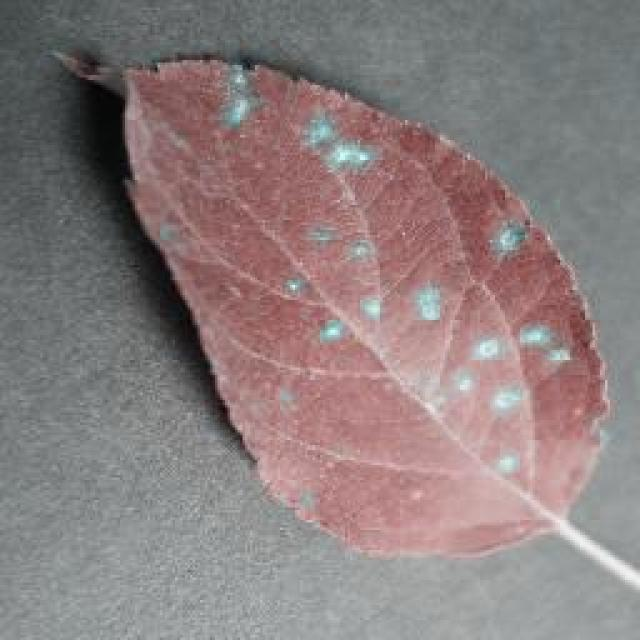apple rust disease: (50, 45, 612, 560)
